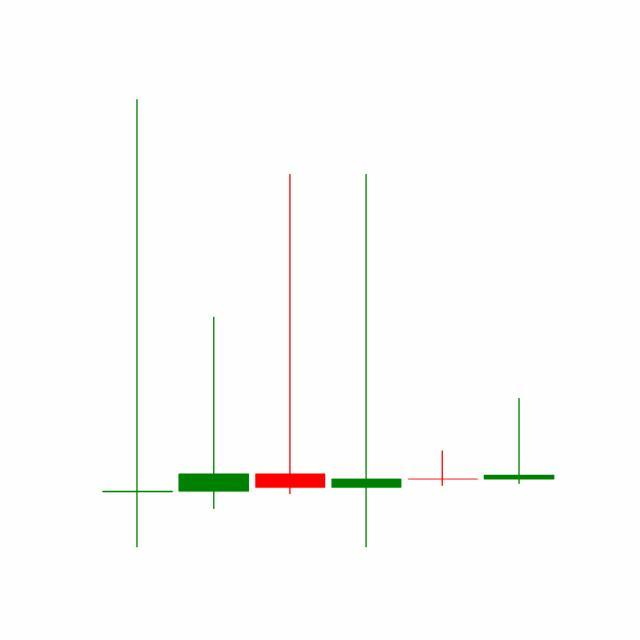Spinning Top: (404, 451, 482, 488)
